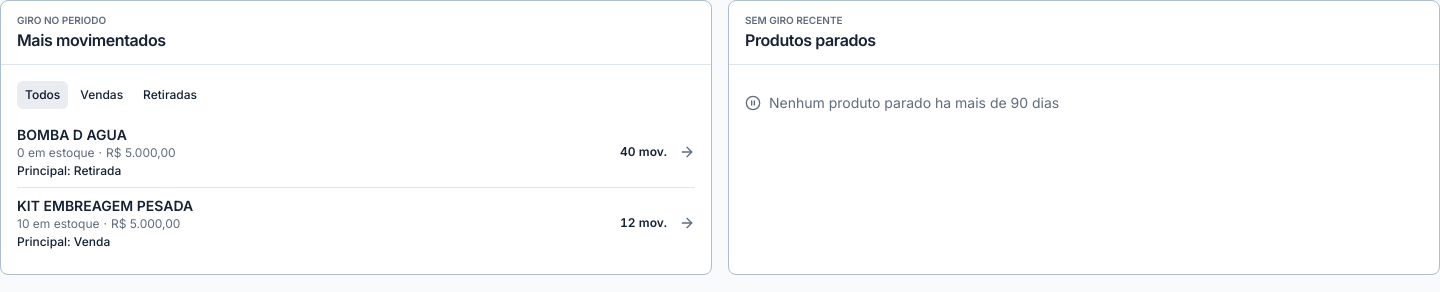
EstoqueMovementHighlights › mostra o tipo principal e alterna o ranking entre vendas e retiradas
Check: the text "Principal: Venda" is shown, box [17,234,110,249]
Check: the text "Principal: Retirada" is shown, box [17,163,121,178]
Click the button "Vendas".
click(102, 95)  # box [72,81,131,109]
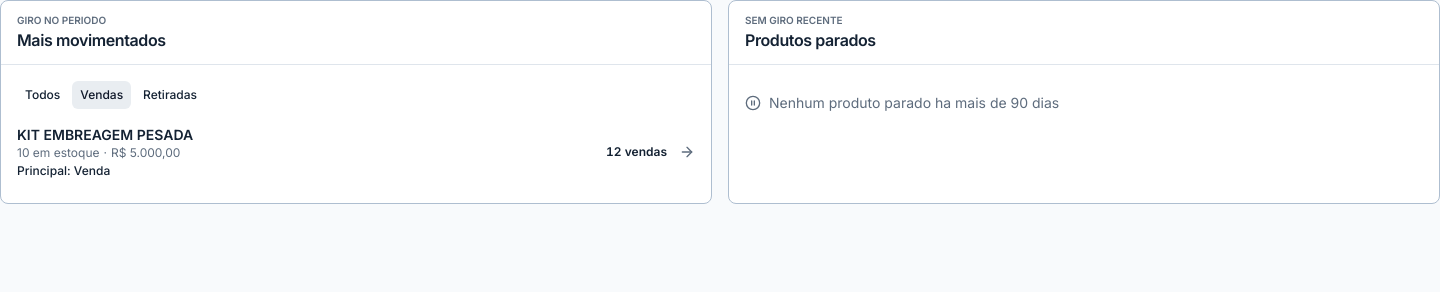
Check: the text "KIT EMBREAGEM PESADA" is shown, box [17,126,193,143]
Check: the button "BOMBA D AGUA" is gone
Check: the text "12 vendas" is shown, box [606,144,667,160]
Click the button "Retiradas".
click(170, 95)  # box [135,81,205,109]
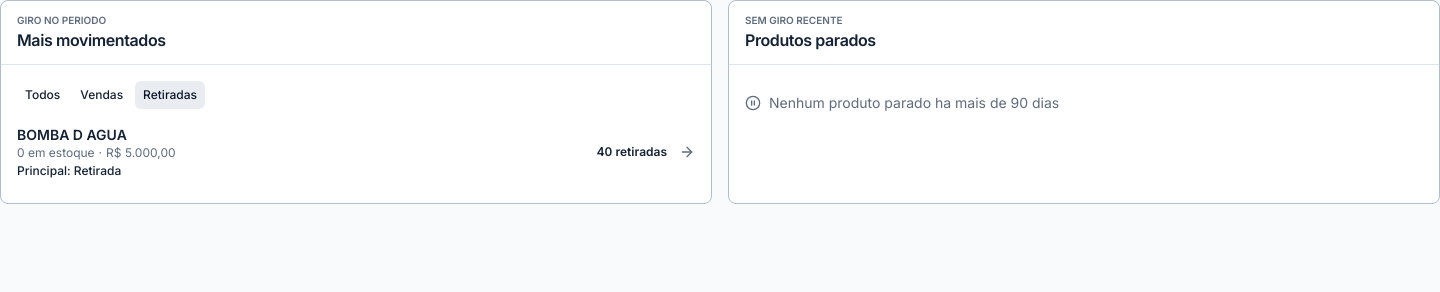
Check: the text "BOMBA D AGUA" is shown, box [17,126,127,143]
Check: the button "KIT EMBREAGEM PESADA" is gone
Check: the text "40 retiradas" is shown, box [597,144,667,160]
